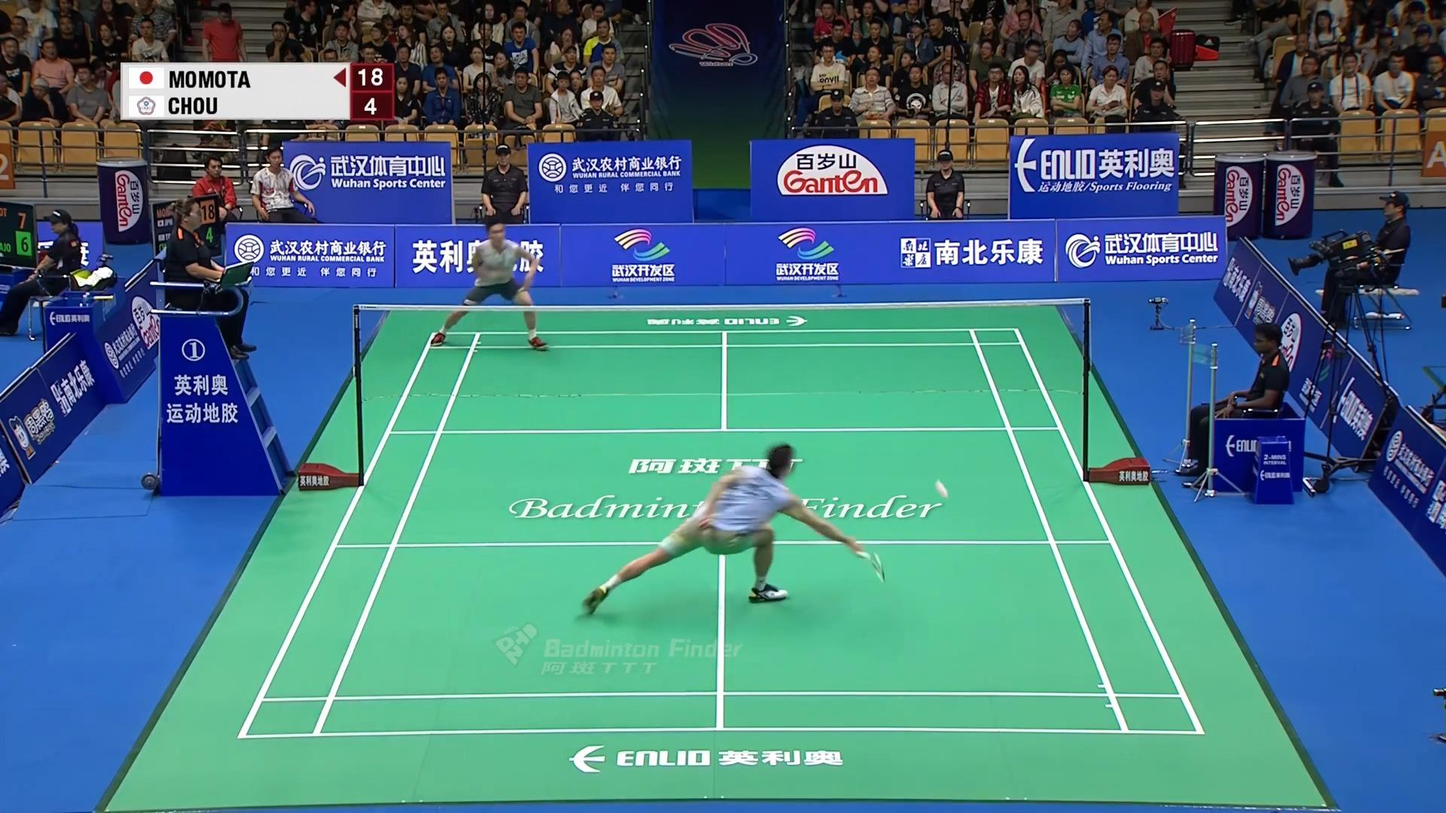shuttlecock: (934, 480, 949, 501)
